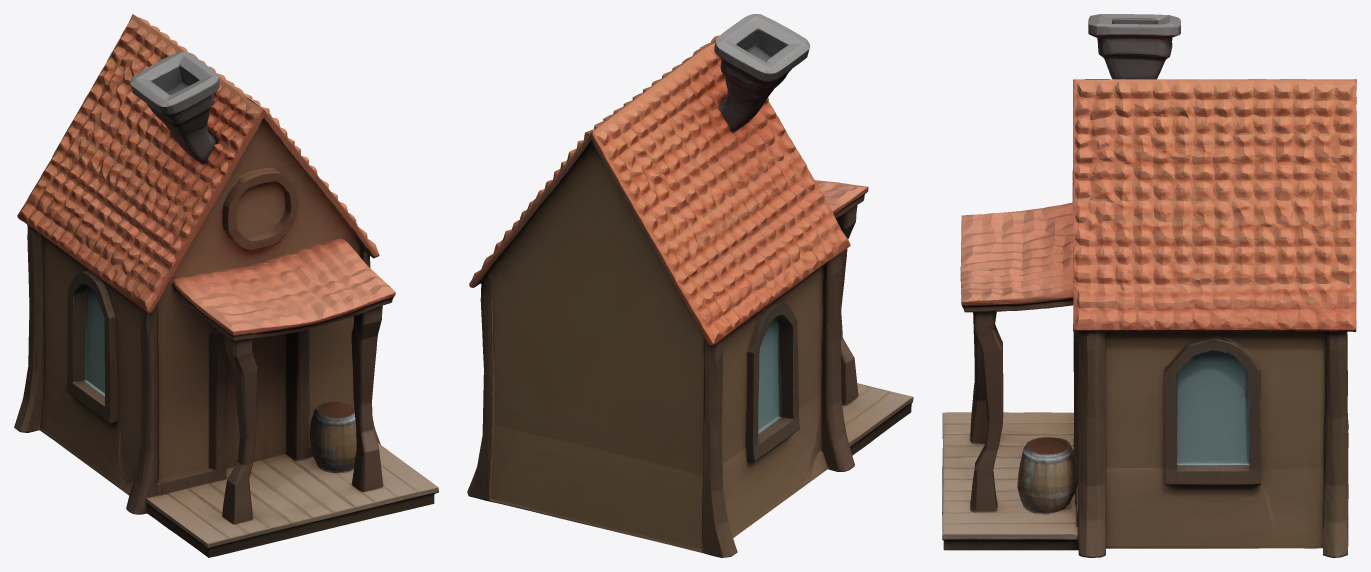
File: nano_t02.glb
3 renders of one model, left to right at view 1: azimuth 30°, elevation 25°; view 2: azimuth 150°, elevation 25°; view 3: azimuth 270°, elevation 25°, orthographic. The views are drawn at different scales.
Parts seen in each view (by area): view 1: geometry_0; view 2: geometry_0; view 3: geometry_0.
Boxes of the visible parts, box(x1,y1,x2,y2) form: geometry_0: box(14, 14, 438, 557); geometry_0: box(467, 14, 913, 557); geometry_0: box(942, 14, 1356, 557).
Size of the model in its own units: 0.7251 by 1.13 by 0.9475.
1 material, 1 textured.
